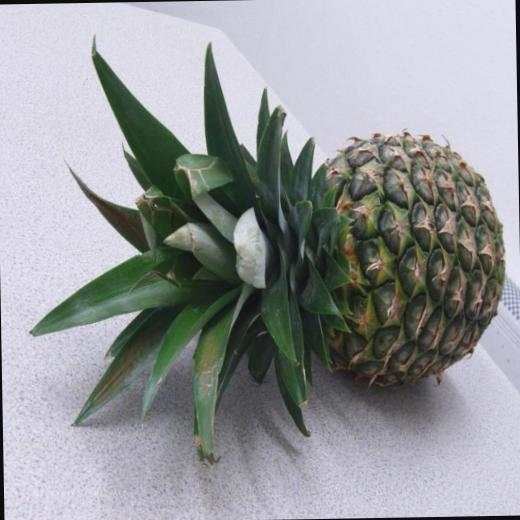Mango: (25, 23, 511, 471)
